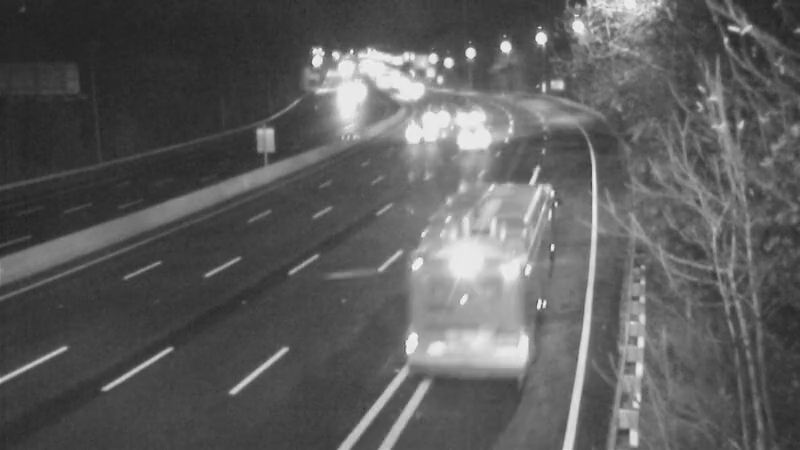vehicle: (433, 238, 513, 318), (377, 70, 427, 120), (441, 87, 491, 137), (399, 92, 449, 142), (400, 103, 450, 153), (448, 113, 498, 163)
